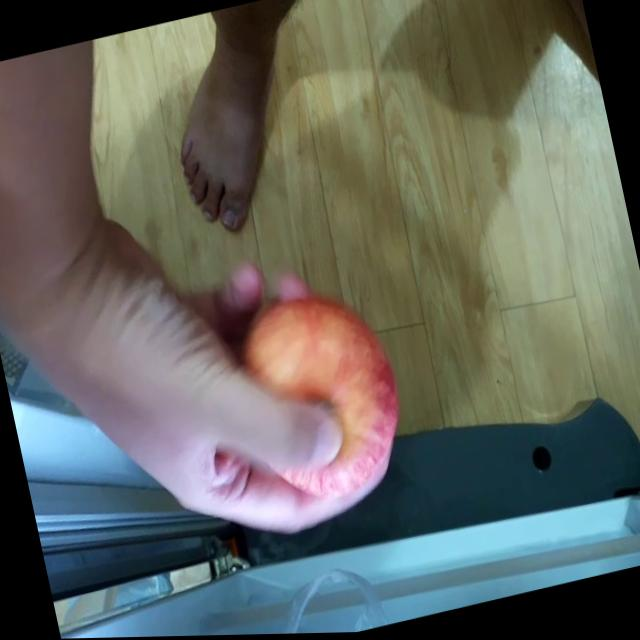apple: (226, 277, 414, 511)
